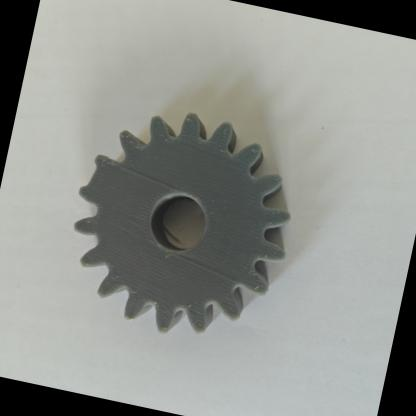defect: (52, 127, 148, 238)
gear: (26, 80, 322, 360)
